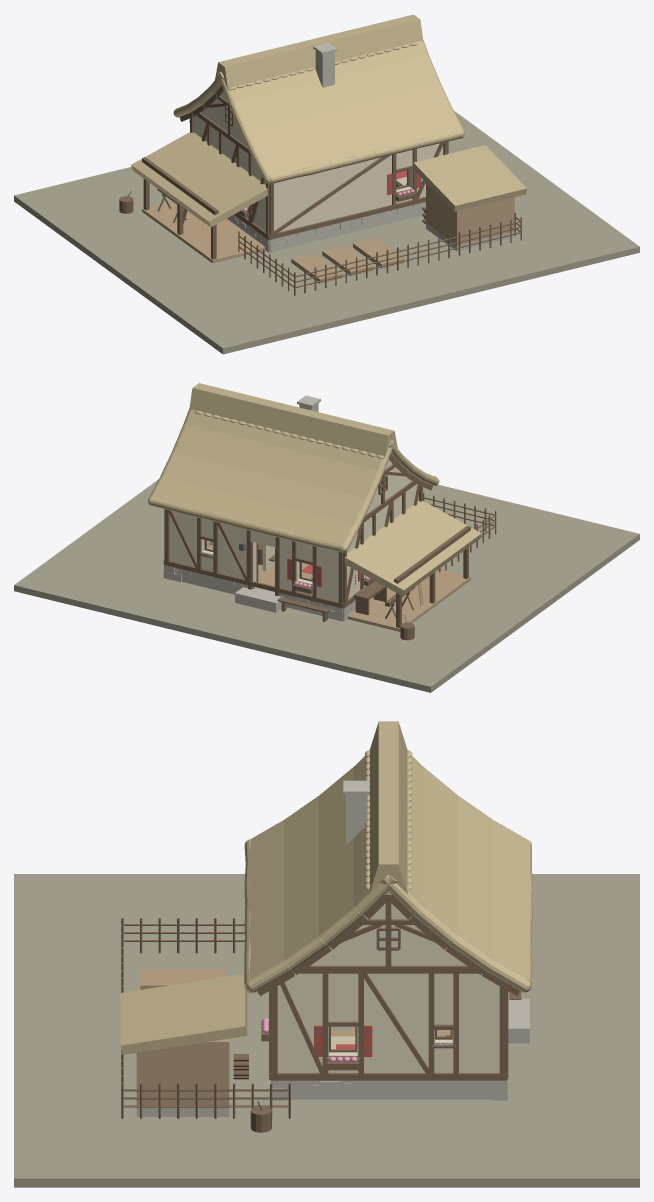
File: workshop-house-2020.glb
3 views of the same model, one above another, from view 1: azimuth 30°, elevation 25°; view 2: azimuth 150°, elevation 25°; view 3: azimuth 270°, elevation 25° (orthographic). The views are drawn at different scales.
Visible parts, largest first — view 1: zemlya__m00, krysha__m03, obolochka__m01, obolochka__m03, obolochka__m09, obolochka__m02, melochi__m02, obolochka__m00, melochi__m09, krysha__m00; view 2: zemlya__m00, krysha__m03, obolochka__m02, obolochka__m01, obolochka__m03, obolochka__m00, obolochka__m09, melochi__m02, mebel__m02; view 3: zemlya__m00, krysha__m03, obolochka__m01, obolochka__m02, obolochka__m00, obolochka__m09, melochi__m02, krysha__m02, krysha__m00, melochi__m09.
Boxes of the visible parts, box(x1,y1,x2,y2) form: zemlya__m00: box(14, 111, 639, 354); krysha__m03: box(173, 14, 526, 211); obolochka__m01: box(193, 91, 443, 232); obolochka__m03: box(131, 132, 267, 227); obolochka__m09: box(142, 182, 514, 263); obolochka__m02: box(142, 96, 448, 259); melochi__m02: box(119, 189, 521, 295); obolochka__m00: box(227, 188, 514, 252); melochi__m09: box(183, 208, 404, 283); krysha__m00: box(313, 42, 337, 87); zemlya__m00: box(14, 479, 639, 692); krysha__m03: box(148, 383, 439, 552); obolochka__m02: box(163, 464, 470, 627); obolochka__m01: box(169, 459, 418, 601); obolochka__m03: box(343, 500, 481, 595); obolochka__m00: box(163, 541, 366, 621); obolochka__m09: box(347, 569, 470, 631); melochi__m02: box(277, 493, 496, 640); mebel__m02: box(258, 544, 386, 615); zemlya__m00: box(14, 874, 639, 1187); krysha__m03: box(120, 721, 533, 1054); obolochka__m01: box(277, 903, 499, 1072); obolochka__m02: box(261, 900, 508, 1080); obolochka__m00: box(136, 998, 529, 1116); obolochka__m09: box(136, 1038, 229, 1107); melochi__m02: box(121, 918, 521, 1132); krysha__m02: box(257, 895, 520, 995); krysha__m00: box(343, 780, 369, 843); melochi__m09: box(140, 969, 225, 989).
Bounding box in the file's own units: 20.25 × 7.9 × 17.59.
